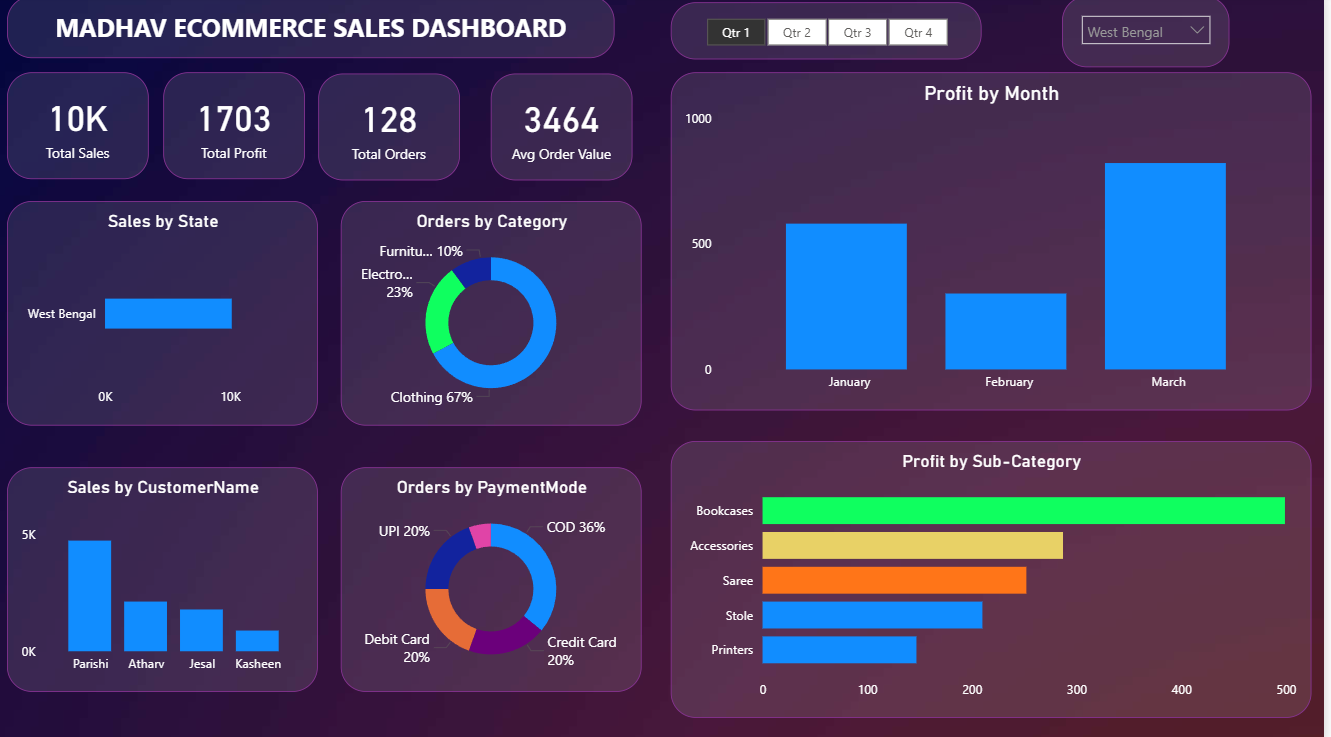

What the dashboard file says about the page in this screenshot:
{"tool":"powerbi","page":{"name":"Page 1","canvas":[1280,720],"ordinal":0},"visuals":[{"type":"textbox","box":[9.6,0,586.7,60.3],"z":0},{"type":"columnChart","title":"Profit by Month","fields":{"Category":["Orders.Order Date.Variation.Date Hierarchy.Month"],"Y":["Sum(Details.Profit)"]},"box":[649.7,74,618.2,326.2],"z":1000},{"type":"barChart","fields":{"Category":["Details.Sub-Category"],"Y":["Sum(Details.Profit)"]},"box":[649.7,429,618.2,267.3],"z":2000},{"type":"donutChart","fields":{"Category":["Details.Category"],"Y":["Sum(Details.Quantity)"]},"box":[331.7,197.4,290.6,216.6],"z":3000},{"type":"donutChart","fields":{"Y":["Sum(Details.Quantity)"],"Category":["Details.PaymentMode"]},"box":[331.7,455.1,290.6,216.6],"z":4000},{"type":"card","fields":{"Values":["Sum(Details.Amount)"]},"box":[9.6,74,137.1,102.8],"z":5000},{"type":"card","fields":{"Values":["Sum(Details.Profit)"]},"box":[160.4,74,137.1,102.8],"z":6000},{"type":"card","fields":{"Values":["Sum(Details.Quantity)"]},"box":[309.8,75.4,137.1,102.8],"z":7000},{"type":"card","fields":{"Values":["Sum(Details.AOV)"]},"box":[477,75.4,137.1,102.8],"z":8000},{"type":"barChart","fields":{"Category":["Orders.State"],"Y":["Sum(Details.Amount)"]},"box":[9.6,197.4,300.2,216.6],"z":9000},{"type":"columnChart","fields":{"Category":["Orders.CustomerName"],"Y":["Sum(Details.Amount)"]},"box":[10,455,300,217],"z":10000},{"type":"slicer","fields":{"Values":["Orders.Order Date.Variation.Date Hierarchy.Quarter"]},"box":[649.7,5.5,300.2,54.8],"z":11000},{"type":"slicer","fields":{"Values":["Orders.State"]},"box":[1028.1,0,161.7,68.5],"z":12000}]}

Visuals, with their boxes in screenshot pixels (x1, y1, x2, y2), scaled from the page's 1280x720 canvas onto the 1331x737 screenshot:
textbox: [left=10, top=0, right=620, bottom=62]
"Profit by Month" columnChart: [left=676, top=76, right=1318, bottom=410]
barChart - Details.Sub-Category x Sum(Details.Profit): [left=676, top=439, right=1318, bottom=713]
donutChart - Details.Category x Sum(Details.Quantity): [left=345, top=202, right=647, bottom=424]
donutChart - Sum(Details.Quantity) x Details.PaymentMode: [left=345, top=466, right=647, bottom=688]
card - Sum(Details.Amount): [left=10, top=76, right=153, bottom=181]
card - Sum(Details.Profit): [left=167, top=76, right=309, bottom=181]
card - Sum(Details.Quantity): [left=322, top=77, right=465, bottom=182]
card - Sum(Details.AOV): [left=496, top=77, right=639, bottom=182]
barChart - Orders.State x Sum(Details.Amount): [left=10, top=202, right=322, bottom=424]
columnChart - Orders.CustomerName x Sum(Details.Amount): [left=10, top=466, right=322, bottom=688]
slicer - Orders.Order Date.Variation.Date Hierarchy.Quarter: [left=676, top=6, right=988, bottom=62]
slicer - Orders.State: [left=1069, top=0, right=1237, bottom=70]
